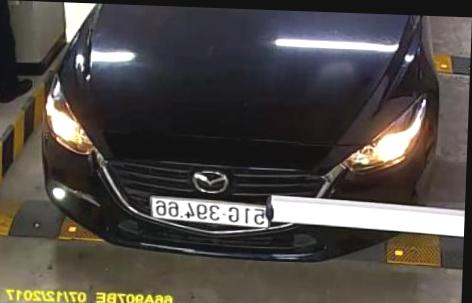License_Plate: (147, 190, 269, 234)
